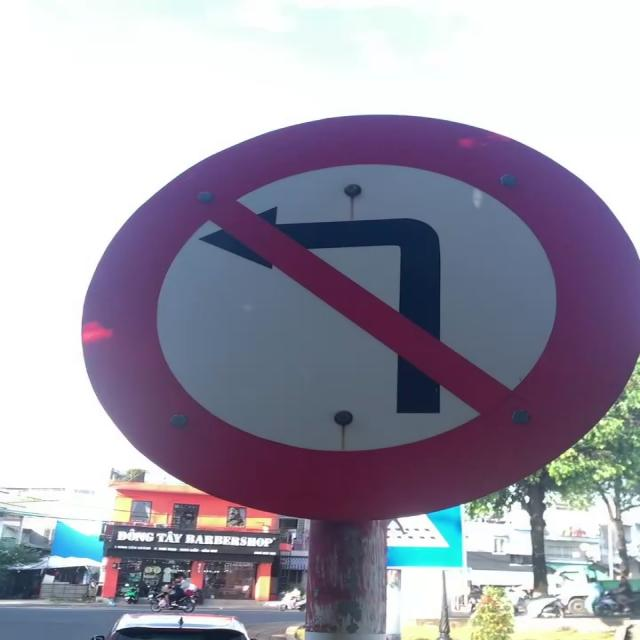Cam_Re_Trai: (84, 108, 639, 539)
